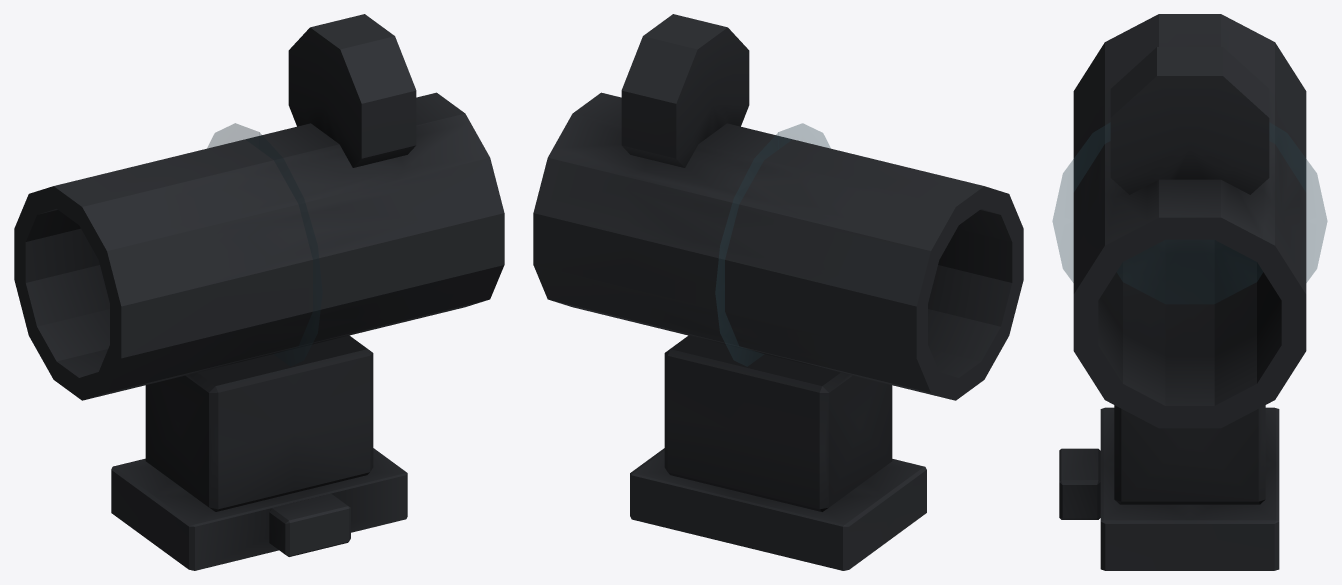
The model's file is k-att-reddot-lprtubo30.glb.
3 renders of one model, left to right at view 1: azimuth 30°, elevation 25°; view 2: azimuth 150°, elevation 25°; view 3: azimuth 270°, elevation 25°, orthographic. The views are drawn at different scales.
Parts seen in each view (by area): view 1: kit, lens; view 2: kit, lens; view 3: kit, lens.
Part boxes in pixels (x1,y1,x2,y2): kit: (14,14,504,570); lens: (207,123,322,366); kit: (533,14,1023,570); lens: (715,123,830,366); kit: (1059,14,1306,570); lens: (1052,122,1327,303).
Size of the model in its own units: 0.07 by 0.0805 by 0.04.
